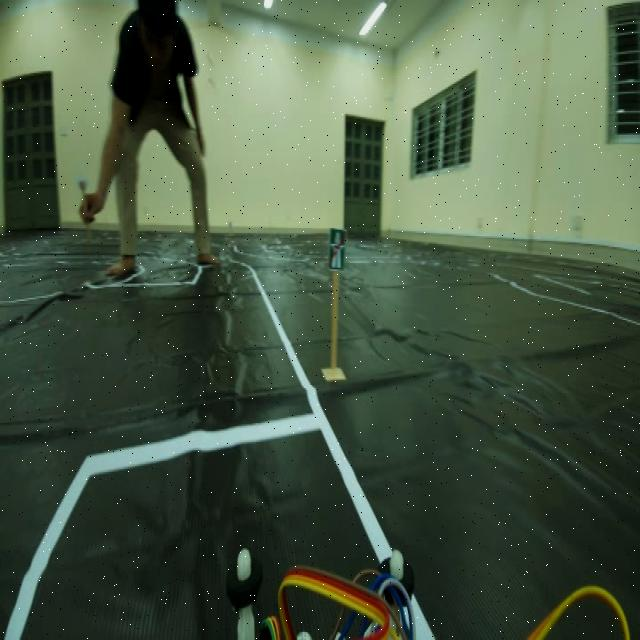highway_exit: (325, 222, 351, 284)
